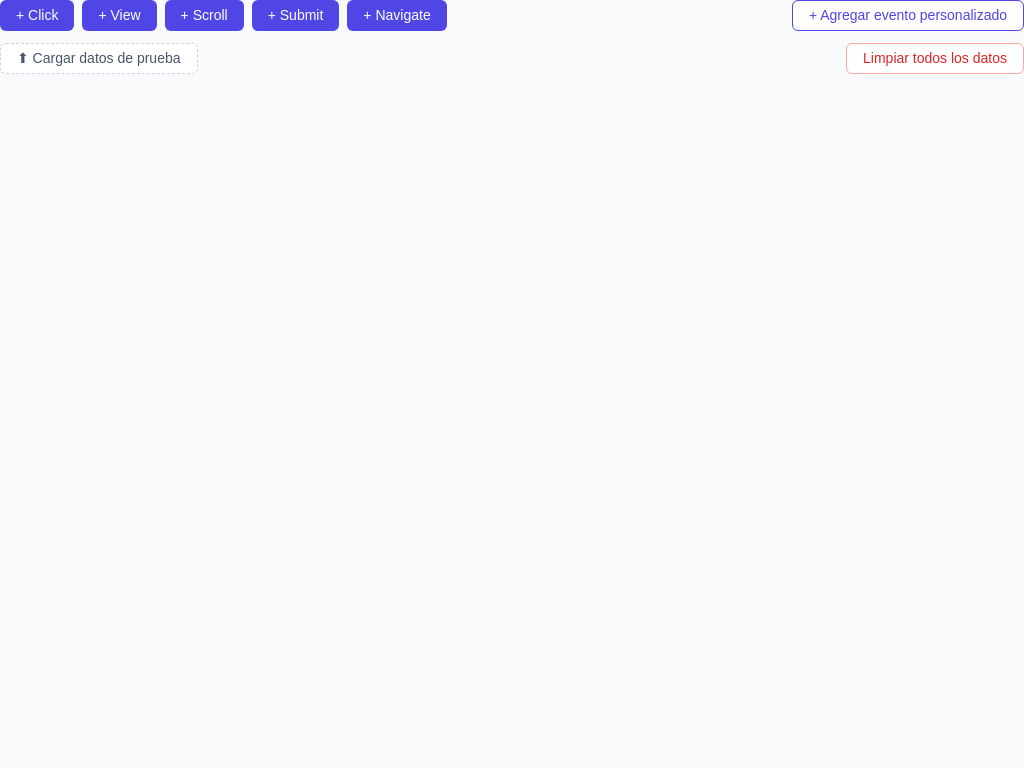
Test case: Custom event form (modal) › shows error in modal when postEvent rejects on submit
Click the button "+ Agregar evento personalizado". click: point(908, 15)
box: [792,0,1023,31]
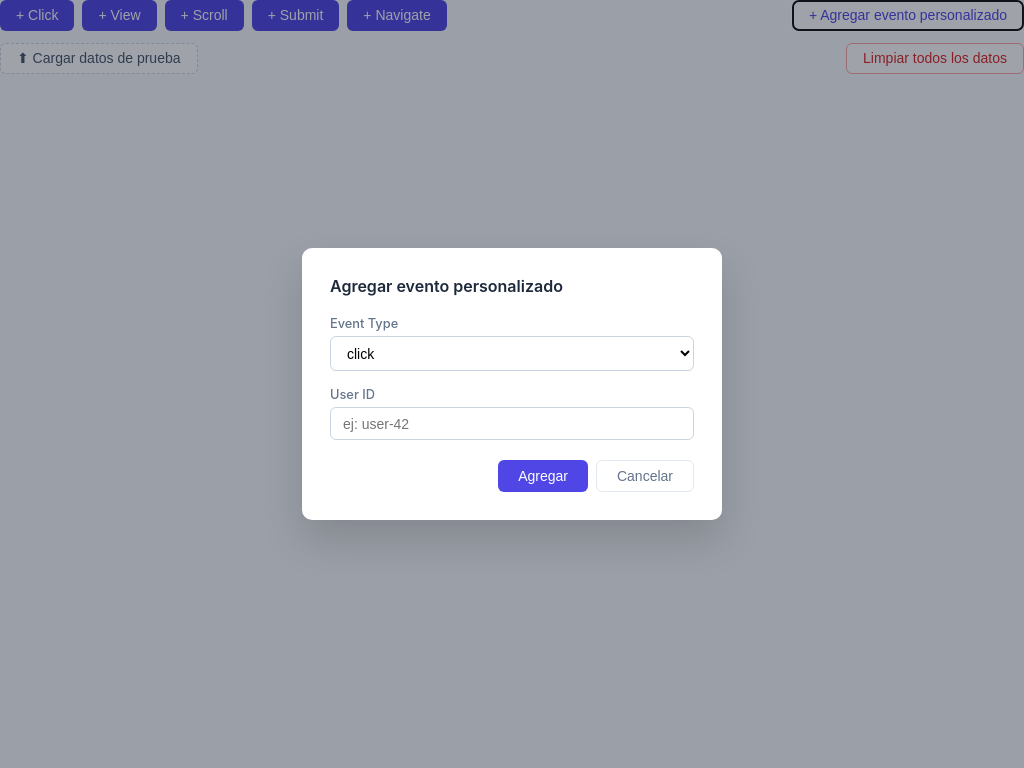
Type "user-5" into the field with placeholder "ej: user-42". click: point(512, 424)
box: [330,407,694,440]
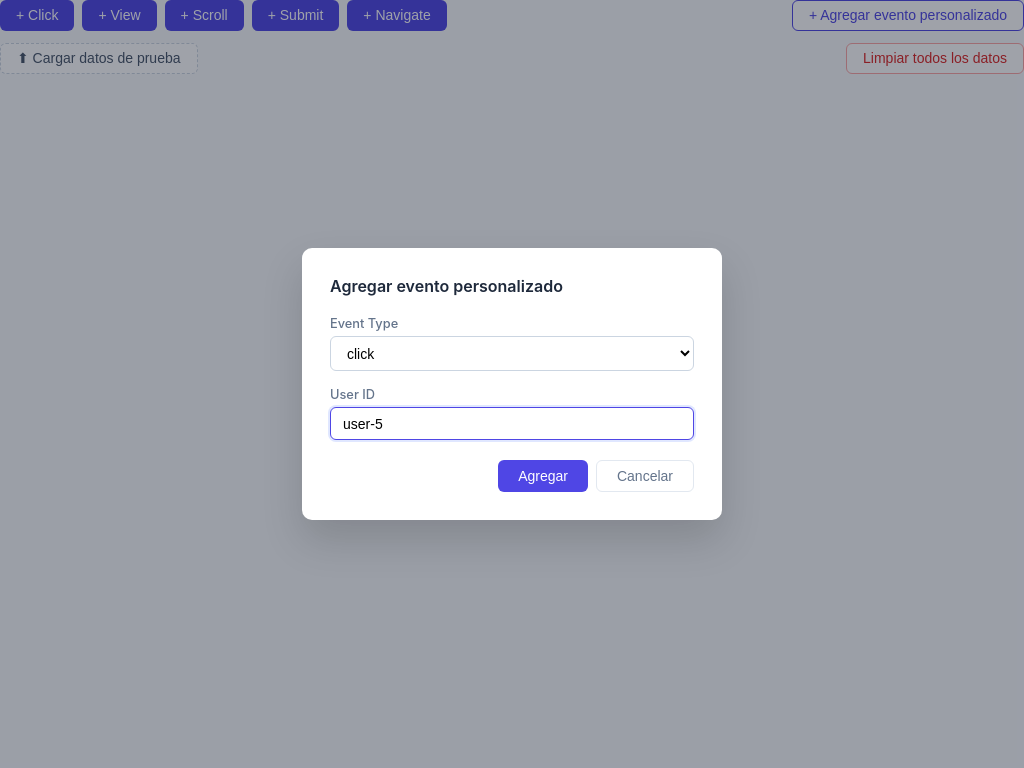
Click the button "Agregar". click: point(543, 476)
box: [498,460,588,492]
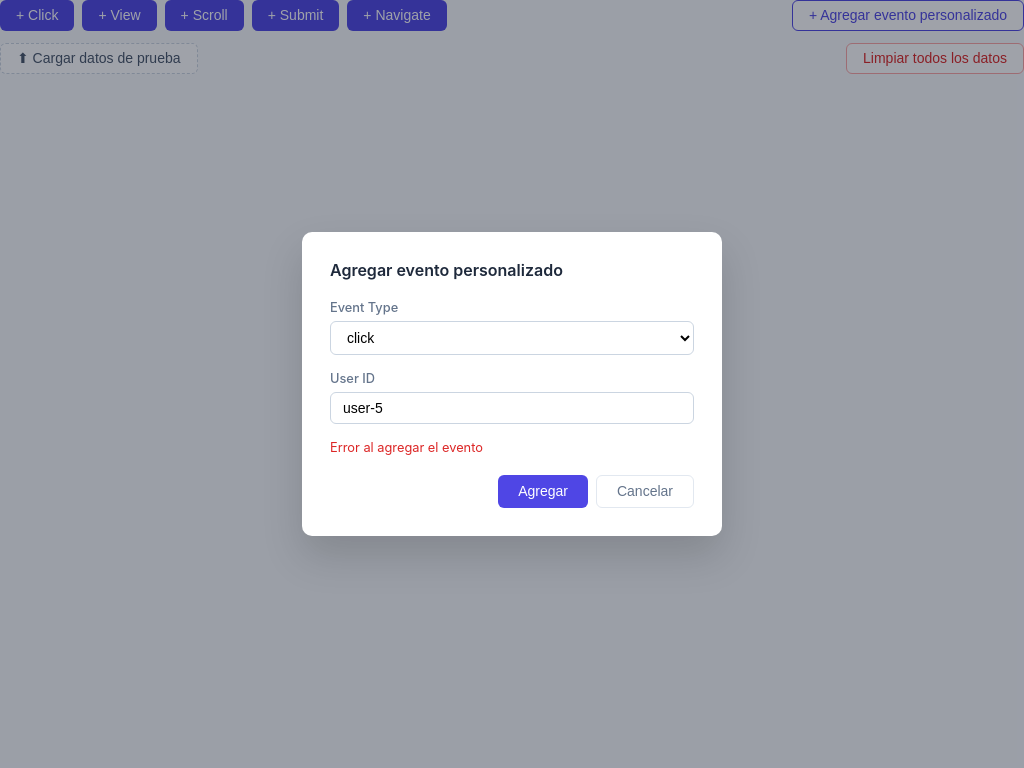
Result: the heading "Agregar evento personalizado" is shown at [330,260,563,280]
Result: the text "Error al agregar el evento" is shown at [330,440,483,455]
